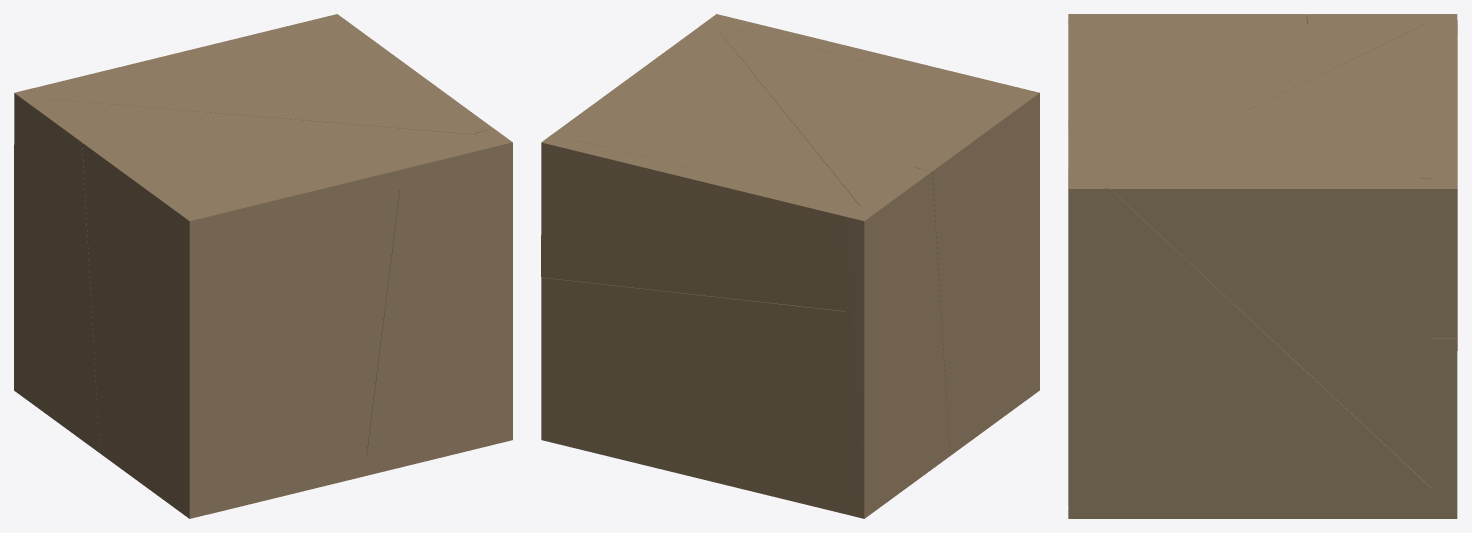
Rendered from wooden_crate_debris.fbx.
The picture shows the model from 3 angles, left to right: view 1: azimuth 30°, elevation 25°; view 2: azimuth 150°, elevation 25°; view 3: azimuth 270°, elevation 25°; orthographic projection. The views are drawn at different scales.
Visible parts, largest first — view 1: Debris.001_cell, Debris.005_cell, Debris.001_cell.001, Debris.007_cell, Debris.005_cell.001, Debris.007_cell.001, Debris.003_cell, Debris.004_cell.001, Debris.003_cell.001, Debris.008_cell.001; view 2: Debris.004_cell, Debris.004_cell.001, Debris.005_cell, Debris.005_cell.001, Debris.007_cell, Debris.007_cell.001, Debris.003_cell.001, Debris.001_cell, Debris.001_cell.001; view 3: Debris.003_cell, Debris.003_cell.001, Debris.007_cell, Debris.007_cell.001, Debris.004_cell.001, Debris.004_cell, Debris.005_cell, Debris.001_cell, Debris.005_cell.001, Debris.001_cell.001.
Part boxes in pixels (x1=…): Debris.001_cell: x1=209, y1=161, x2=400, y2=508; Debris.005_cell: x1=82, y1=138, x2=208, y2=518; Debris.001_cell.001: x1=366, y1=139, x2=493, y2=464; Debris.007_cell: x1=49, y1=99, x2=493, y2=215; Debris.005_cell.001: x1=14, y1=88, x2=100, y2=452; Debris.007_cell.001: x1=45, y1=27, x2=475, y2=134; Debris.003_cell: x1=475, y1=128, x2=512, y2=444; Debris.004_cell.001: x1=34, y1=14, x2=348, y2=96; Debris.003_cell.001: x1=330, y1=22, x2=493, y2=133; Debris.008_cell.001: x1=209, y1=457, x2=409, y2=514; Debris.004_cell: x1=541, y1=277, x2=844, y2=513; Debris.004_cell.001: x1=541, y1=134, x2=855, y2=311; Debris.005_cell: x1=913, y1=88, x2=1039, y2=455; Debris.005_cell.001: x1=845, y1=167, x2=949, y2=518; Debris.007_cell: x1=719, y1=18, x2=1018, y2=205; Debris.007_cell.001: x1=572, y1=31, x2=859, y2=207; Debris.003_cell.001: x1=552, y1=28, x2=716, y2=138; Debris.001_cell: x1=816, y1=42, x2=1019, y2=88; Debris.001_cell.001: x1=725, y1=22, x2=826, y2=43; Debris.003_cell: x1=1068, y1=178, x2=1432, y2=518; Debris.003_cell.001: x1=1110, y1=178, x2=1432, y2=488; Debris.007_cell: x1=1068, y1=24, x2=1424, y2=200; Debris.007_cell.001: x1=1107, y1=24, x2=1432, y2=178; Debris.004_cell.001: x1=1432, y1=24, x2=1457, y2=338; Debris.004_cell: x1=1432, y1=338, x2=1457, y2=518; Debris.005_cell: x1=1068, y1=14, x2=1306, y2=24; Debris.001_cell: x1=1068, y1=24, x2=1093, y2=129; Debris.005_cell.001: x1=1306, y1=14, x2=1457, y2=350; Debris.001_cell.001: x1=1068, y1=129, x2=1093, y2=507.
Bounding box in the file's own units: 250 × 220 × 235.
